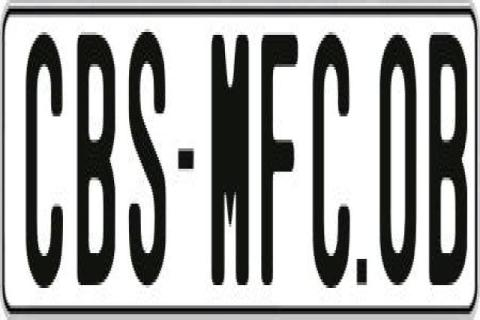0: (378, 29, 417, 294)
B: (77, 29, 116, 285), (426, 35, 461, 285)
C: (22, 29, 61, 299), (311, 29, 351, 282)
F: (260, 27, 296, 286)
M: (211, 29, 249, 297)
S: (126, 26, 163, 282)
